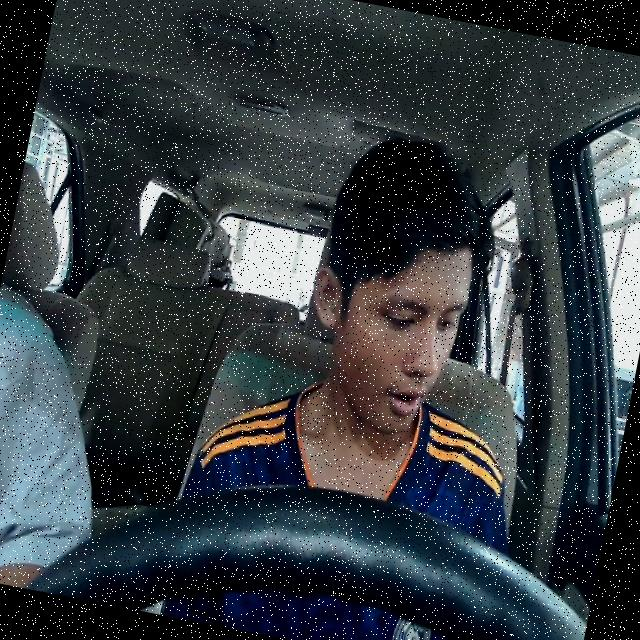yarning: (286, 218, 478, 442)
